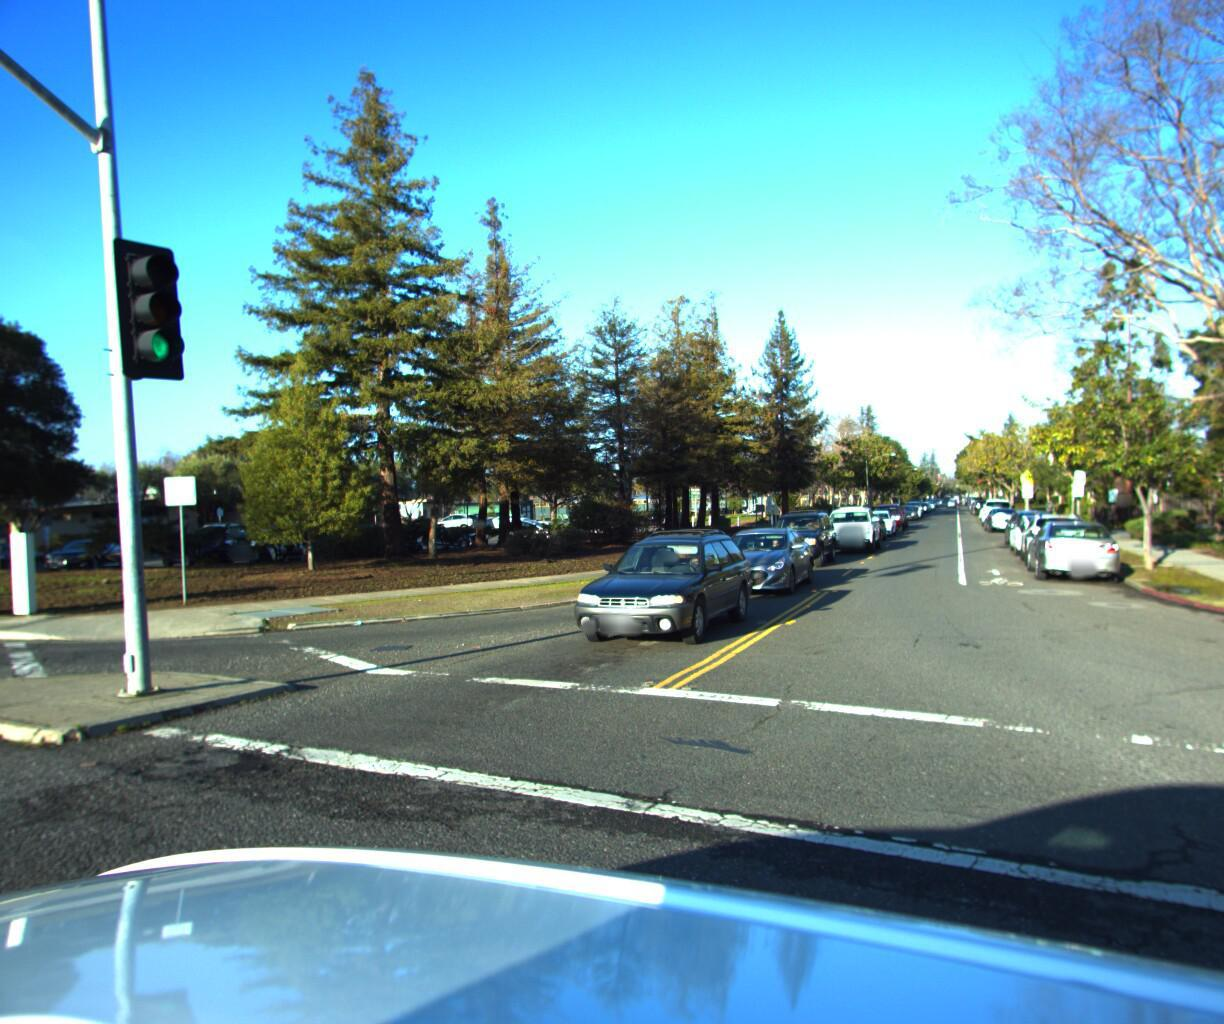car: (554, 521, 766, 663), (696, 517, 822, 599), (1023, 507, 1134, 583), (754, 503, 842, 569), (1017, 502, 1104, 566), (1008, 503, 1081, 555), (816, 498, 886, 550), (855, 502, 899, 535), (866, 494, 908, 526), (984, 500, 1023, 530), (981, 488, 1015, 519), (1202, 487, 1224, 519)
